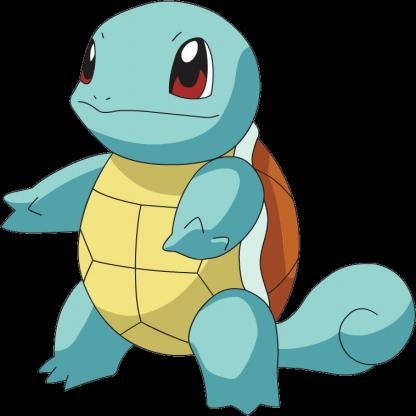Squirtle: (1, 1, 416, 407)
